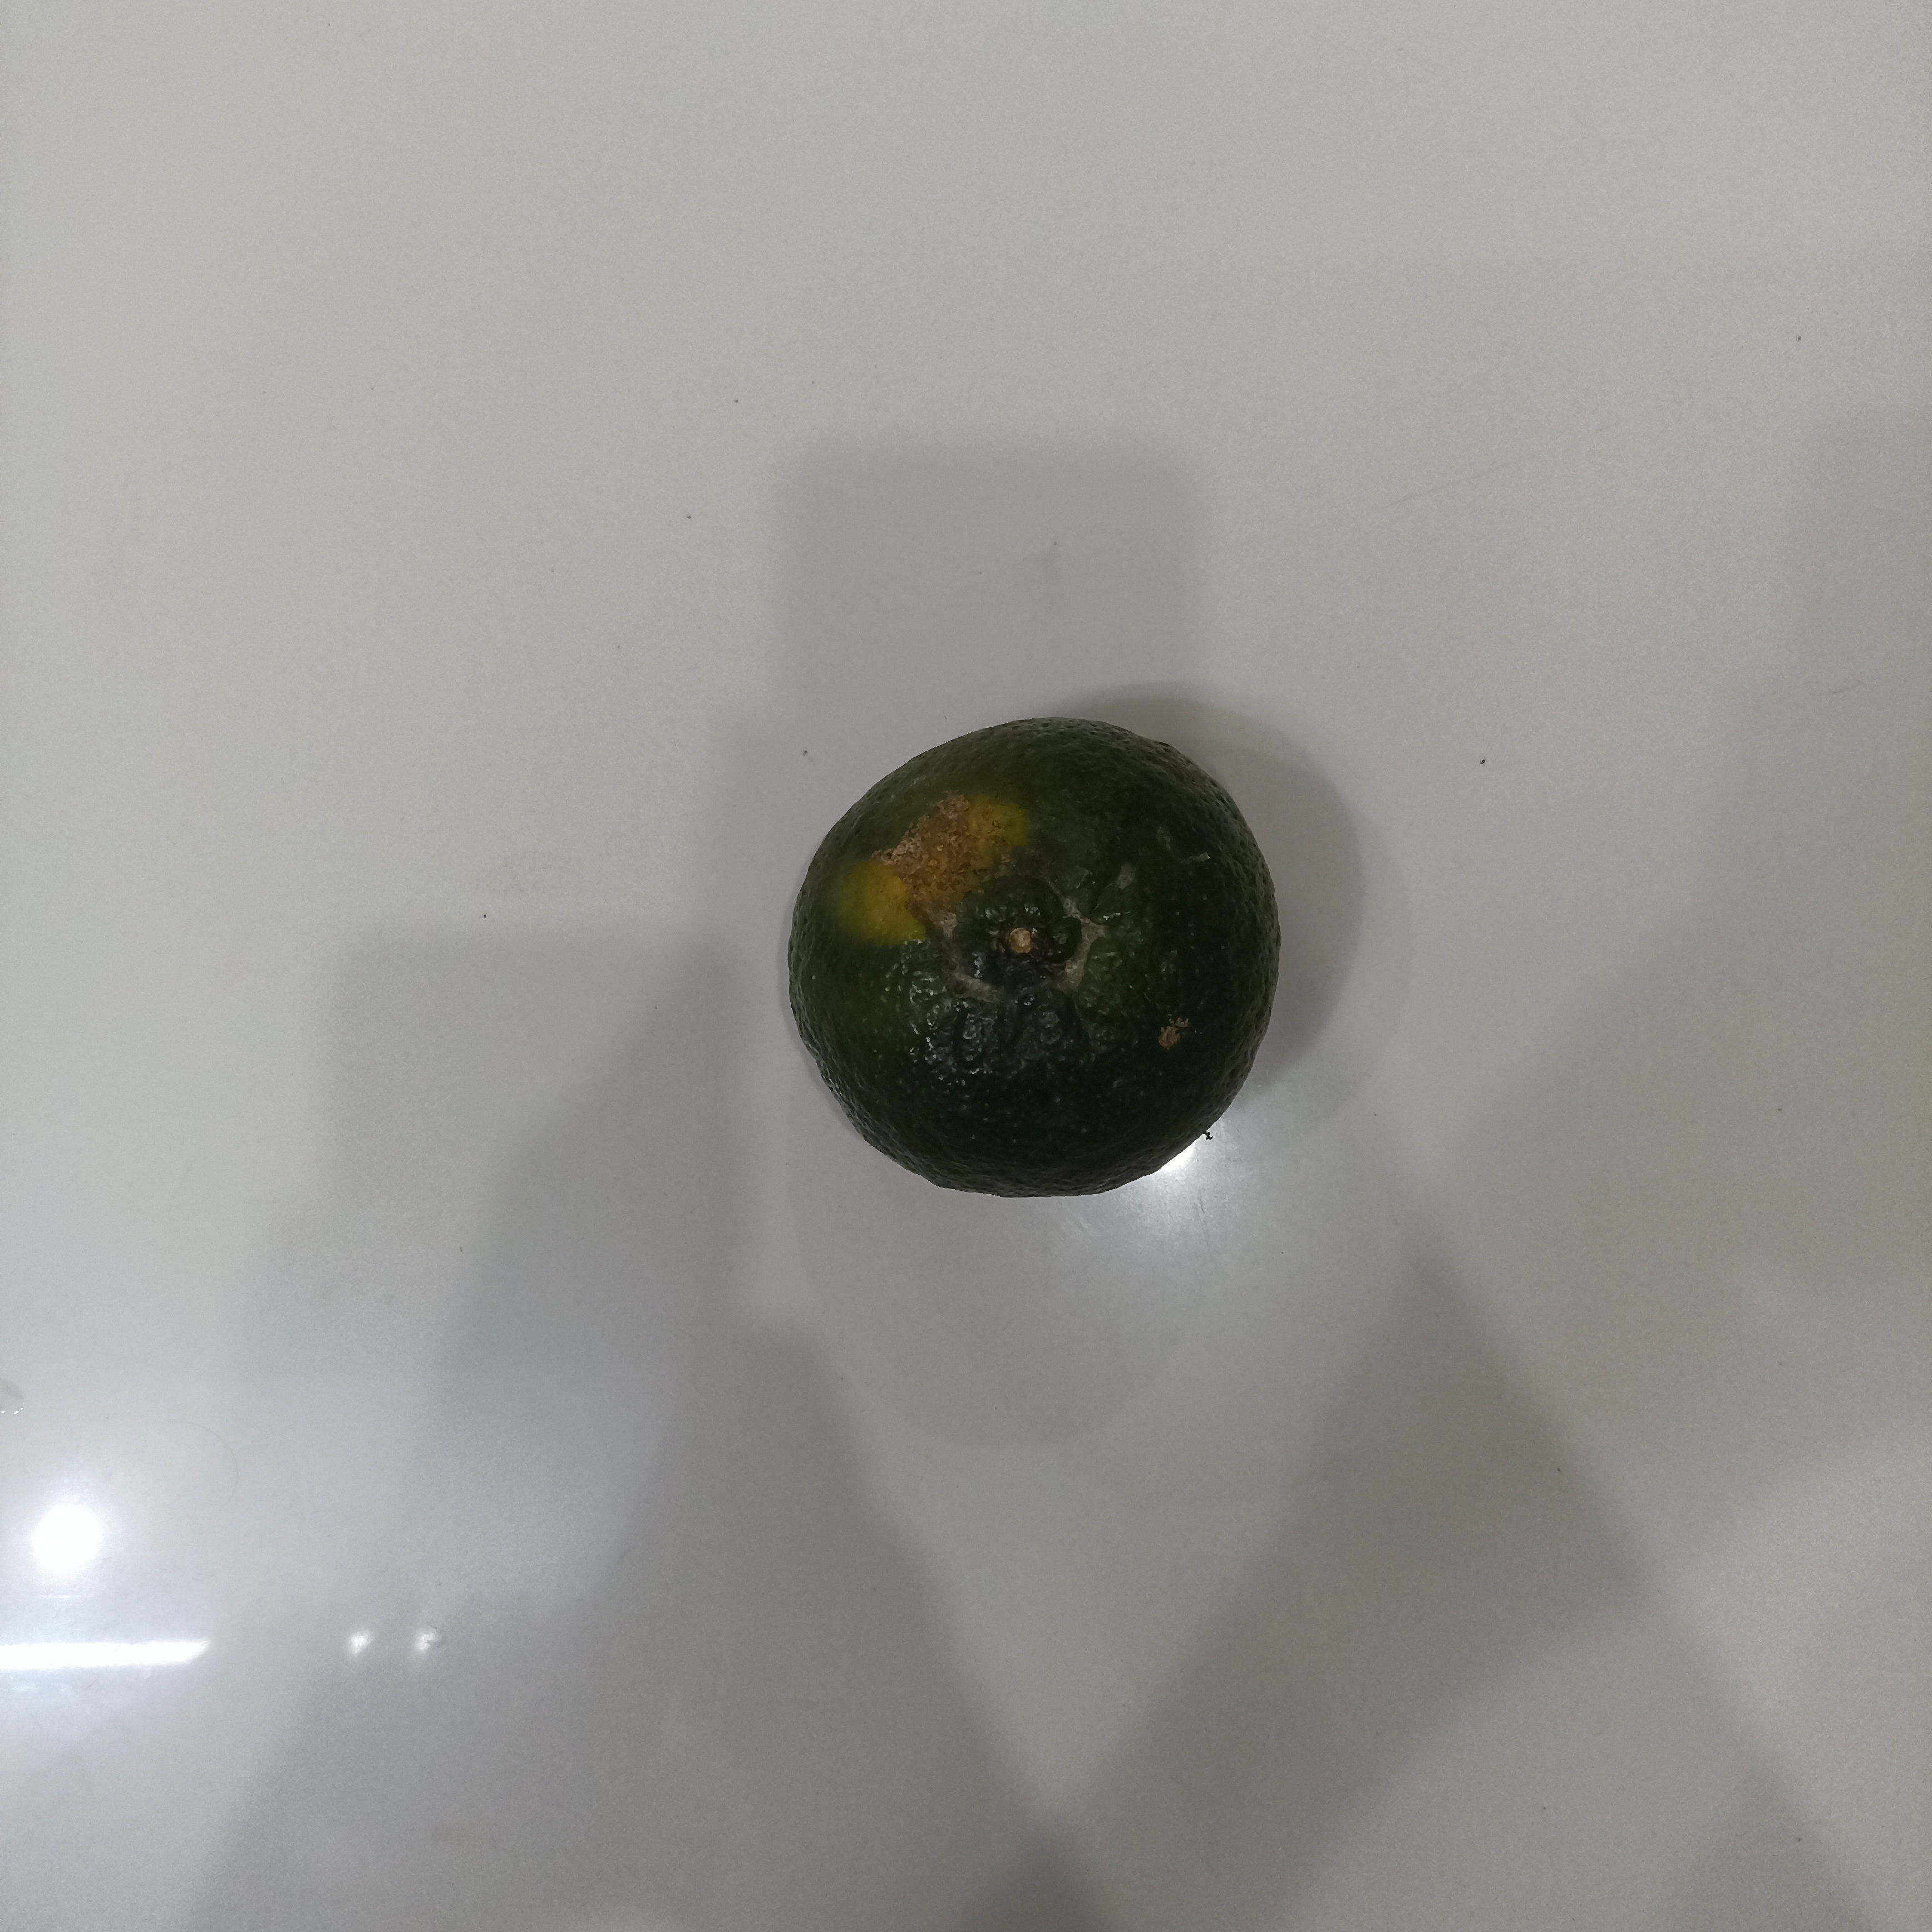Cam: (784, 708, 1283, 1200)
